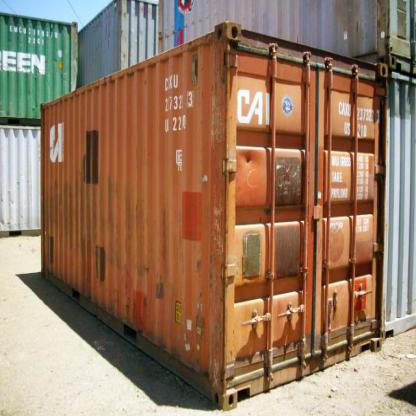Damage: (210, 184, 236, 382), (208, 19, 232, 164), (39, 173, 93, 232), (143, 194, 186, 246), (100, 172, 132, 235), (107, 273, 142, 327), (186, 292, 208, 350), (148, 260, 168, 307)
